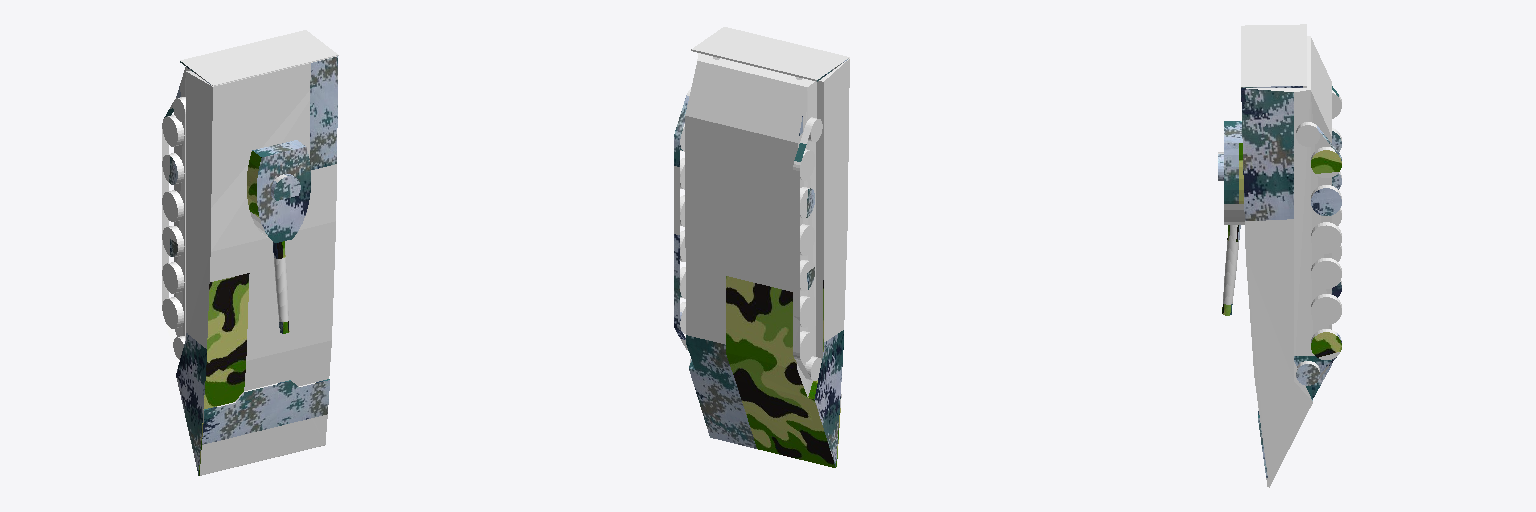
3 renders of one model, left to right at view 1: azimuth 30°, elevation 25°; view 2: azimuth 150°, elevation 25°; view 3: azimuth 270°, elevation 25°, orthographic.
Parts seen in each view (by area): view 1: 平面.001_平面.001; view 2: 平面.001_平面.001; view 3: 平面.001_平面.001.
Boxes of the visible parts, box(x1,y1,x2,y2) form: 平面.001_平面.001: box(162, 30, 338, 475); 平面.001_平面.001: box(674, 27, 849, 467); 平面.001_平面.001: box(1218, 24, 1341, 487).
Size of the model in its own units: 3.21 by 9.76 by 2.73.
Materials: 1 (1 with a texture image).